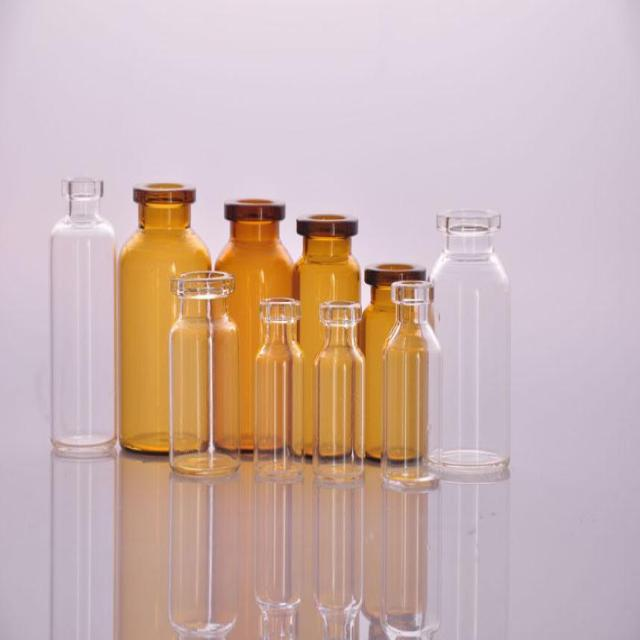B3: (117, 172, 216, 462), (424, 198, 516, 490), (40, 164, 125, 466), (214, 192, 298, 459), (165, 265, 246, 479), (378, 268, 445, 498), (251, 293, 309, 484), (311, 299, 366, 486)
